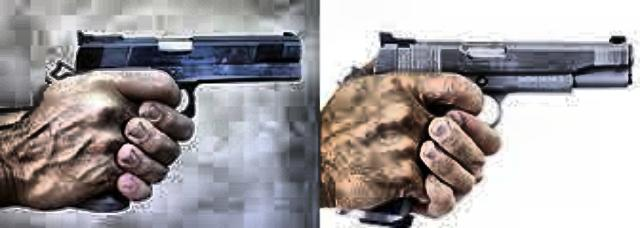pistol: (358, 24, 636, 224), (52, 17, 298, 209)
